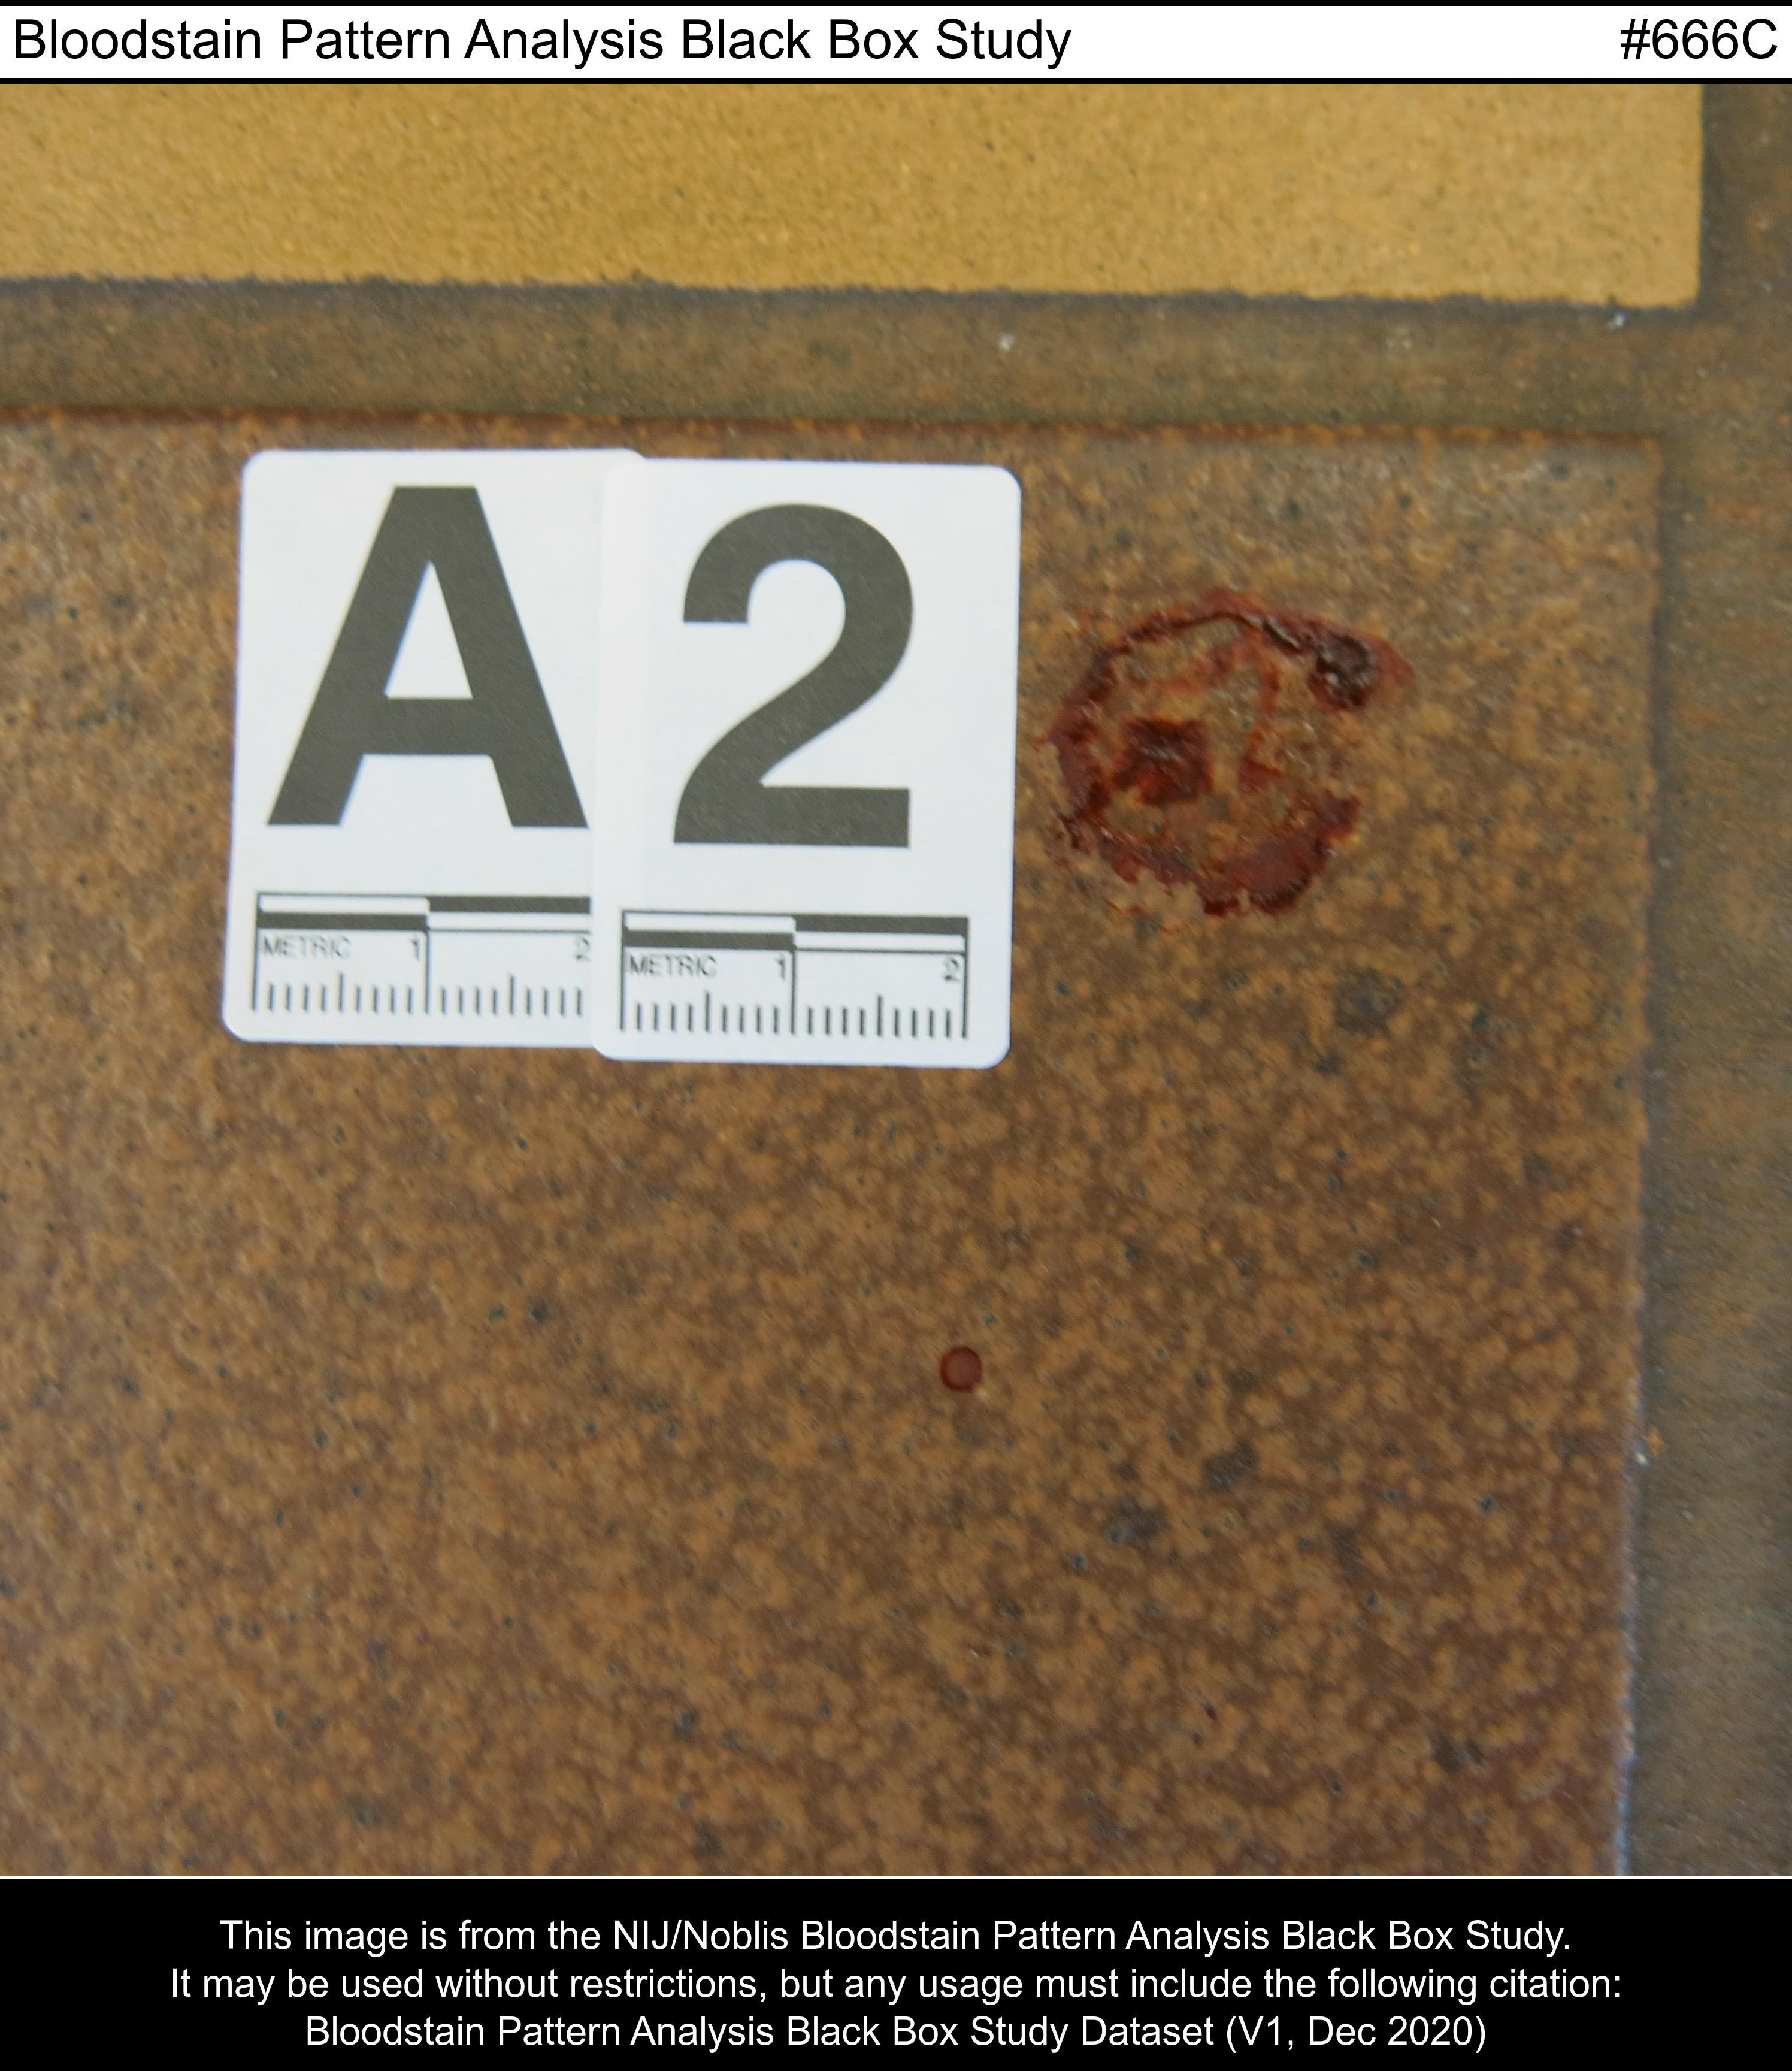Passive: (1046, 564, 1438, 976)
